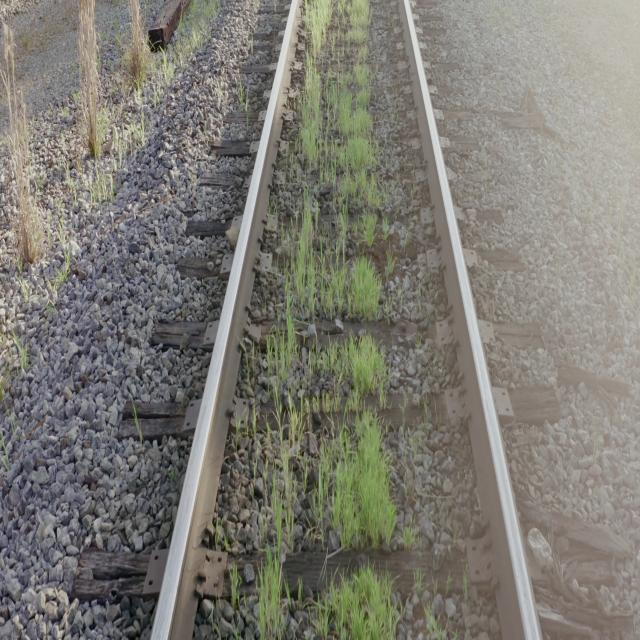Plant: (259, 0, 396, 638), (318, 567, 398, 638), (329, 567, 396, 640)
